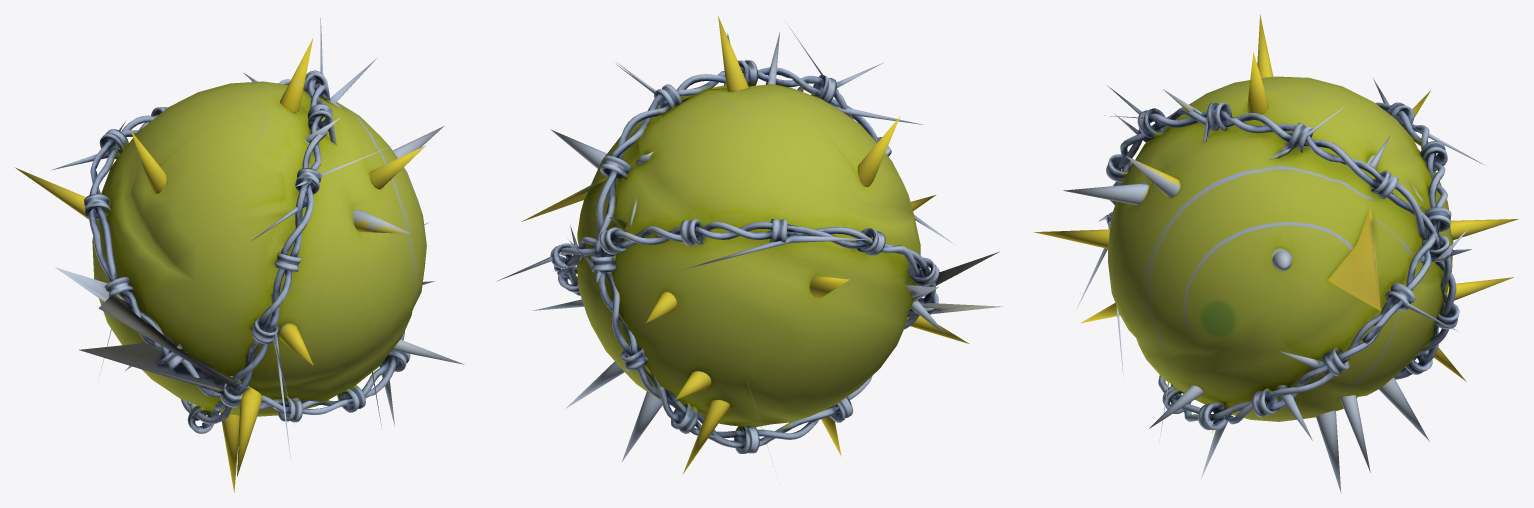
The model's file is spiked-ball.glb.
3 renders of one model, left to right at view 1: azimuth 30°, elevation 25°; view 2: azimuth 150°, elevation 25°; view 3: azimuth 270°, elevation 25°, orthographic. The views are drawn at different scales.
Visible parts, largest first — view 1: tripo_node_711c1c17-5c3c-44f0-af8e-30239; view 2: tripo_node_711c1c17-5c3c-44f0-af8e-30239; view 3: tripo_node_711c1c17-5c3c-44f0-af8e-30239.
Boxes of the visible parts, box(x1,y1,x2,y2) form: tripo_node_711c1c17-5c3c-44f0-af8e-30239: box(15, 18, 464, 492); tripo_node_711c1c17-5c3c-44f0-af8e-30239: box(496, 16, 1003, 473); tripo_node_711c1c17-5c3c-44f0-af8e-30239: box(1033, 14, 1518, 493).
Size of the model in its own units: 1 by 0.9785 by 0.9961.
1 material, 1 textured.
